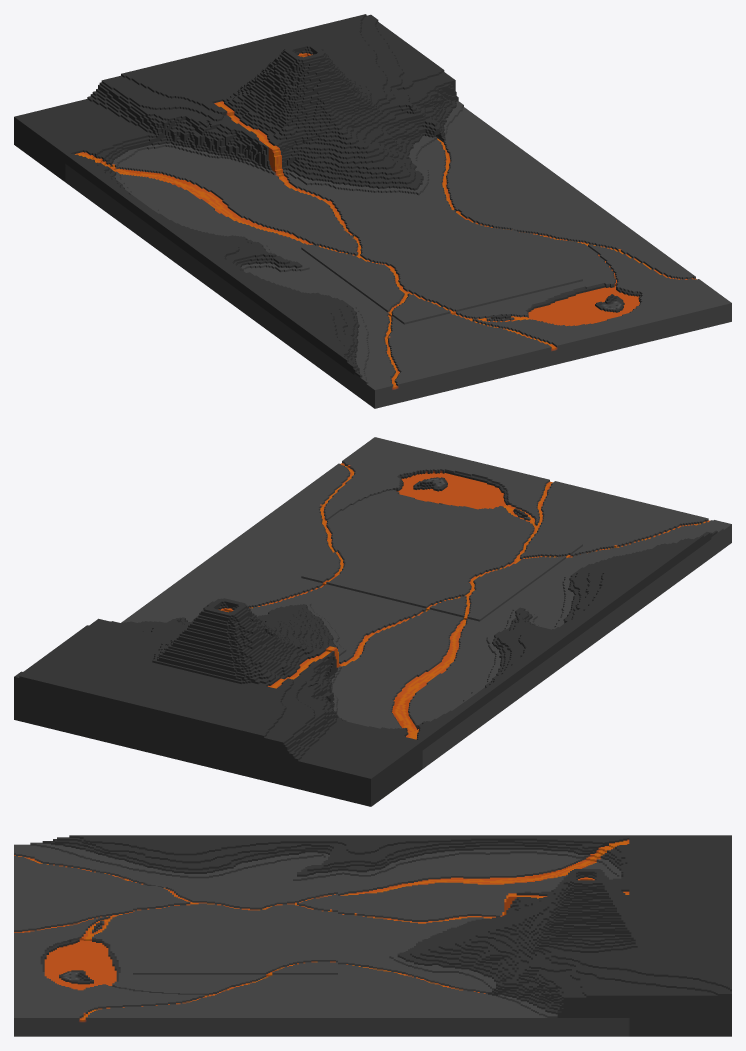
The model's file is Vulcano_World.fbx.
3 views of the same model, one above another, from view 1: azimuth 30°, elevation 25°; view 2: azimuth 150°, elevation 25°; view 3: azimuth 270°, elevation 25° (orthographic).
Parts seen in each view (by area): view 1: Matrix; view 2: Matrix; view 3: Matrix.
Boxes of the visible parts, x1,y1,x2,y2 form: Matrix: (14,14,731,408); Matrix: (14,437,731,806); Matrix: (14,835,731,1036).
Size of the model in its own units: 200 by 50 by 350.
